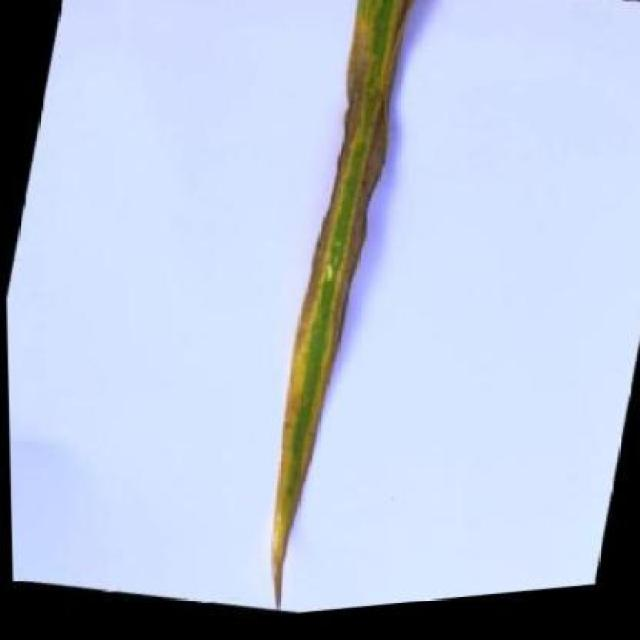Rice False Smut: (220, 0, 443, 623)
